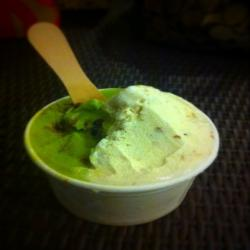icecream: (19, 72, 223, 235)
